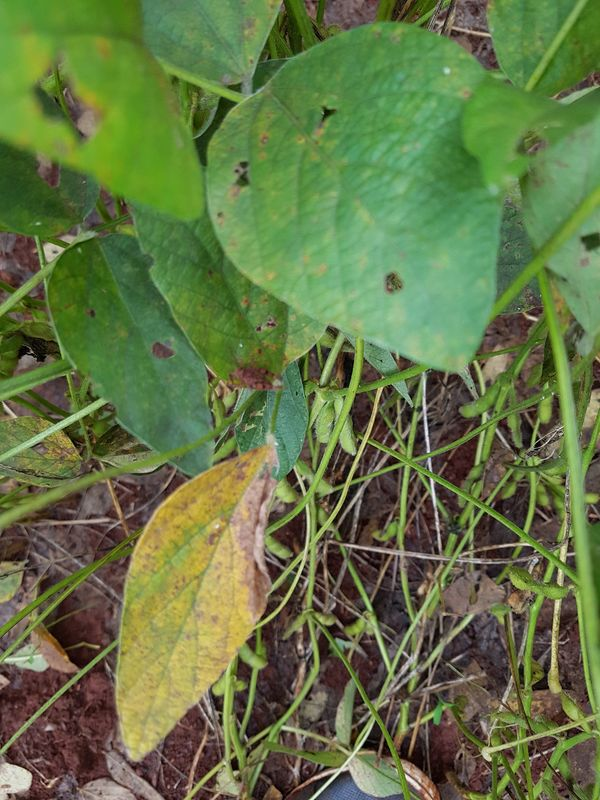Rhammatocerus_schistocercoides: (216, 354, 292, 402)
